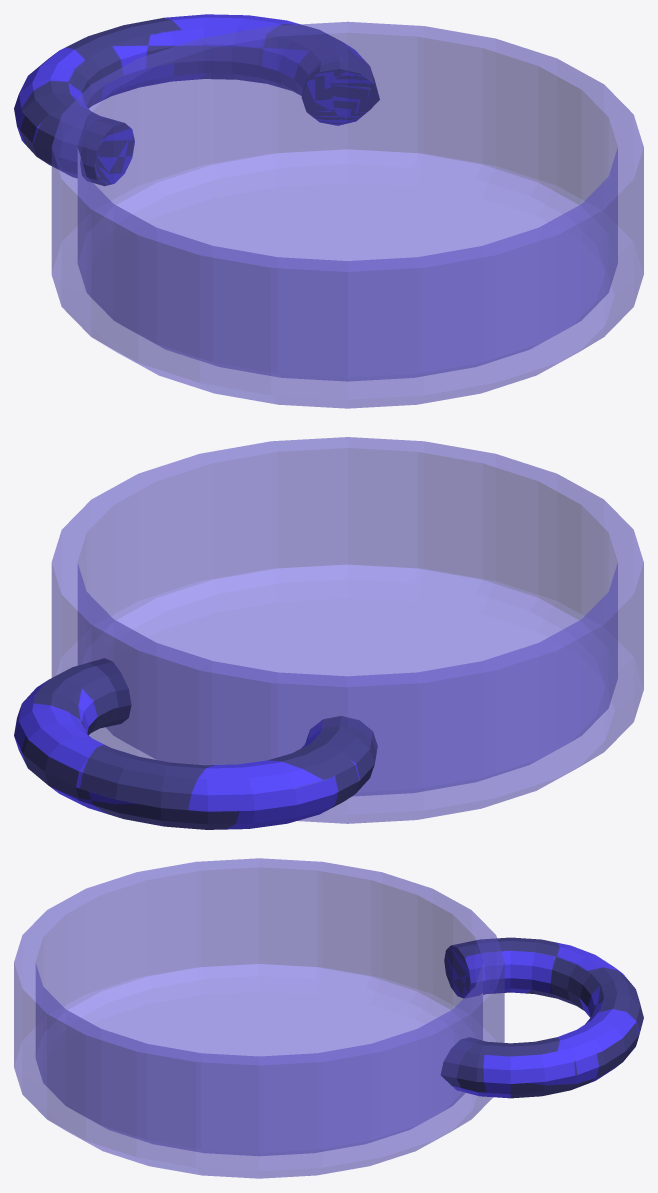
The model's file is Petri dish.glb.
The picture shows the model from 3 angles, top to bottom: view 1: azimuth 30°, elevation 25°; view 2: azimuth 150°, elevation 25°; view 3: azimuth 270°, elevation 25°; orthographic projection. The views are drawn at different scales.
Parts seen in each view (by area): view 1: Cirkel, Torus; view 2: Cirkel, Torus; view 3: Cirkel, Torus.
Boxes of the visible parts, box(x1,y1,x2,y2) form: Cirkel: box(51, 21, 643, 408); Torus: box(14, 14, 379, 185); Cirkel: box(51, 437, 643, 823); Torus: box(14, 658, 377, 829); Cirkel: box(14, 858, 504, 1178); Torus: box(440, 937, 643, 1098).
Bounding box in the file's own units: 4.61 × 1.28 × 5.91.
Materials: 2 (2 with a texture image).
